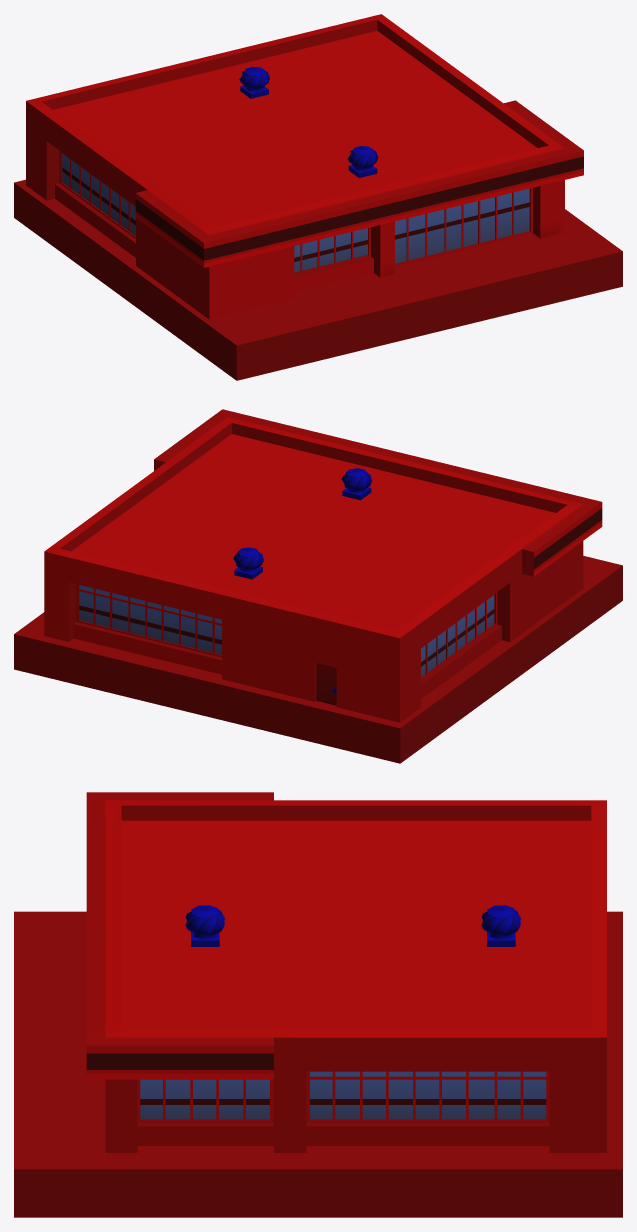
Rendered from buildings-business-conveniencestore_v1.fbx.
3 renders of one model, top to bottom at view 1: azimuth 30°, elevation 25°; view 2: azimuth 150°, elevation 25°; view 3: azimuth 270°, elevation 25°, orthographic. The views are drawn at different scales.
Parts seen in each view (by area): view 1: ConvenienceStore_v1_base, ConvenienceStore_v1_windowRefl, ConvenienceStore_v1_refl; view 2: ConvenienceStore_v1_base, ConvenienceStore_v1_windowRefl, ConvenienceStore_v1_refl; view 3: ConvenienceStore_v1_base, ConvenienceStore_v1_windowRefl, ConvenienceStore_v1_refl, ConvenienceStore_v1_vent2_anim_0_90_0, ConvenienceStore_v1_vent1_anim_0_90_0.
Part boxes in pixels (x1,y1,x2,y2): ConvenienceStore_v1_base: [14, 14, 622, 380]; ConvenienceStore_v1_windowRefl: [62, 153, 529, 272]; ConvenienceStore_v1_refl: [240, 66, 377, 177]; ConvenienceStore_v1_base: [14, 409, 622, 763]; ConvenienceStore_v1_windowRefl: [79, 585, 494, 676]; ConvenienceStore_v1_refl: [234, 468, 371, 692]; ConvenienceStore_v1_base: [14, 792, 622, 1217]; ConvenienceStore_v1_windowRefl: [140, 1071, 546, 1119]; ConvenienceStore_v1_refl: [191, 905, 515, 946]; ConvenienceStore_v1_vent2_anim_0_90_0: [481, 910, 520, 936]; ConvenienceStore_v1_vent1_anim_0_90_0: [185, 910, 224, 936].
Bounding box in the file's own units: 23.72 × 7.68 × 23.33.
